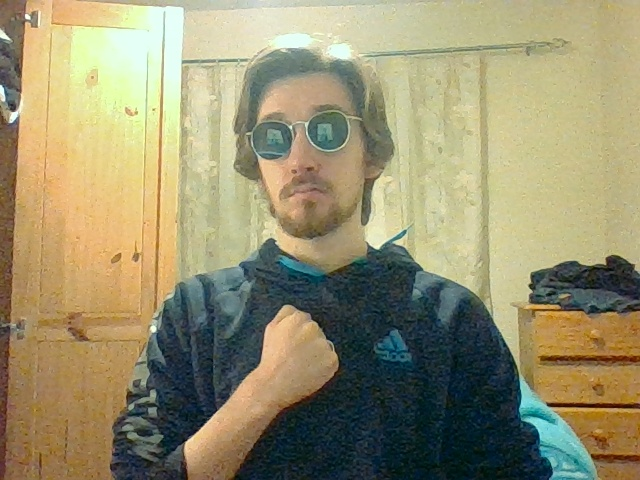my: (263, 304, 339, 402)
